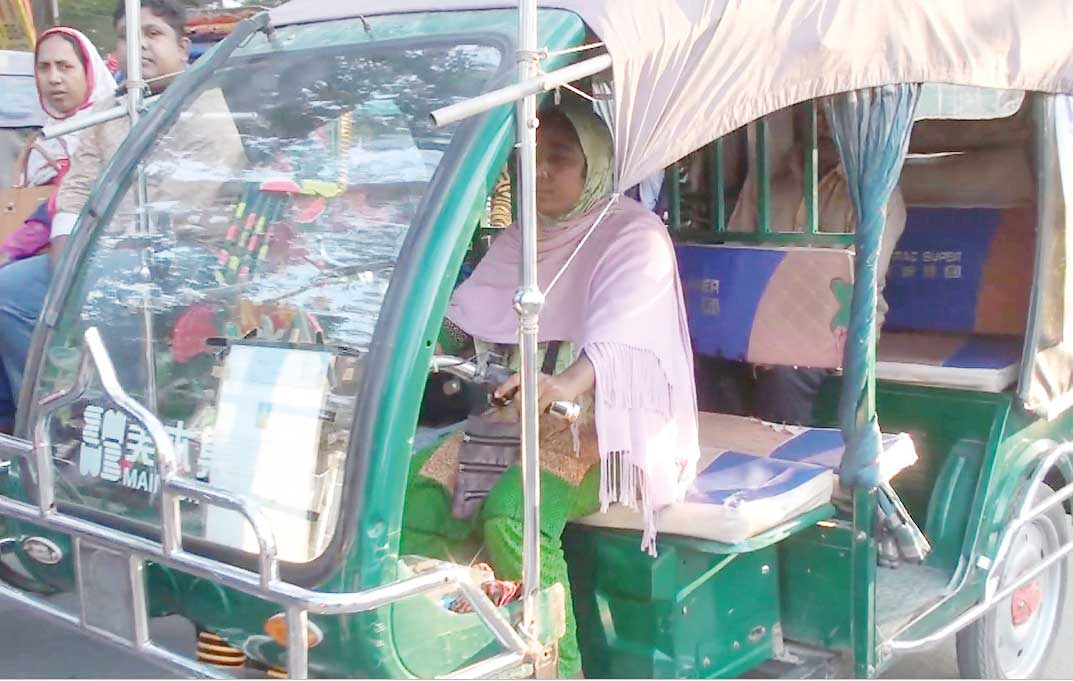auto rickshaw: (2, 2, 1073, 679)
